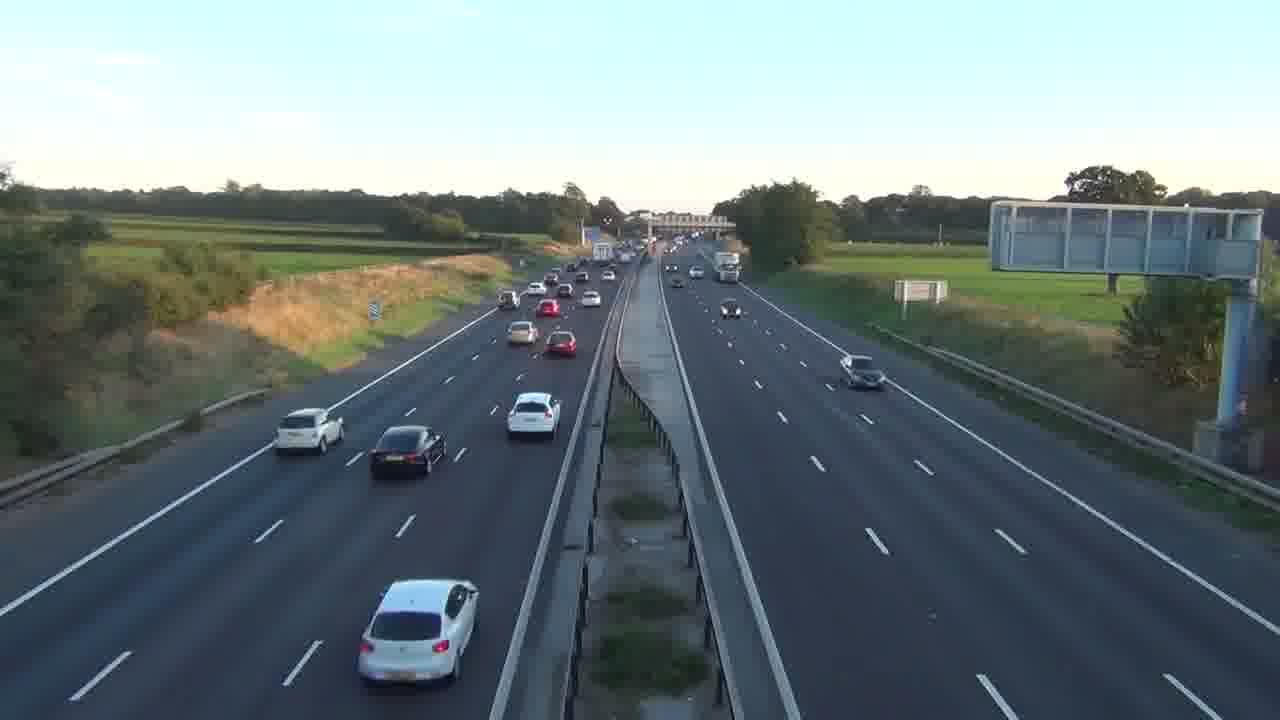car: (356, 577, 480, 690), (369, 424, 447, 479), (274, 406, 346, 456), (506, 391, 562, 440), (838, 354, 885, 390), (544, 331, 577, 358), (506, 320, 537, 346)
truck: (716, 252, 742, 283)
